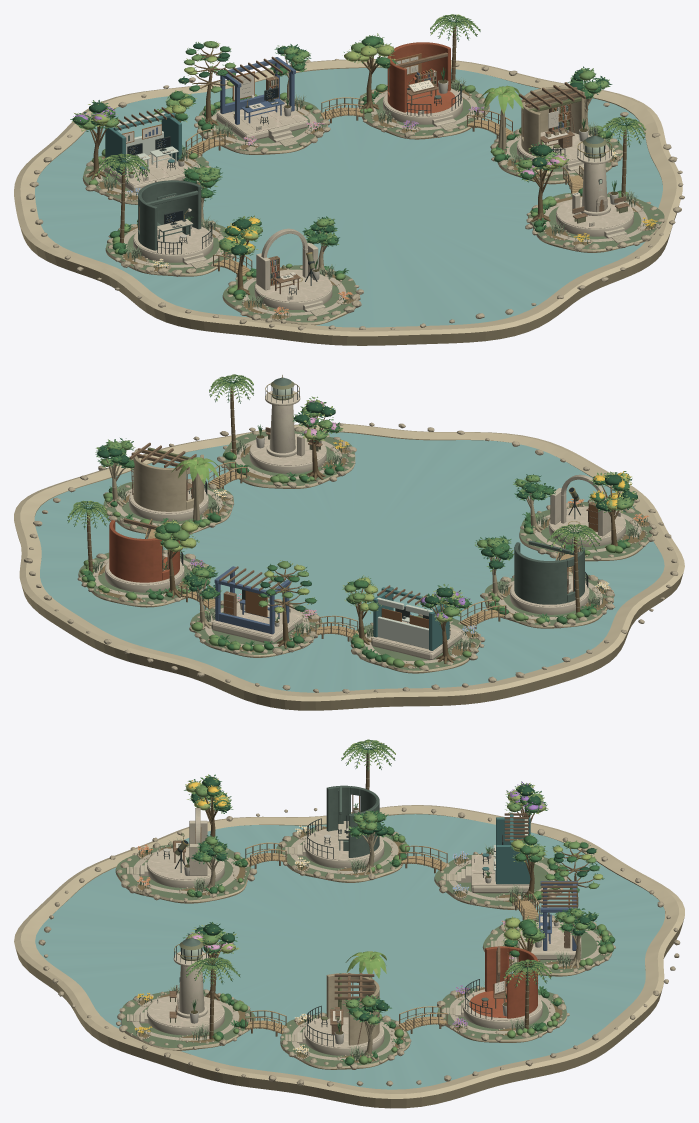
The model's file is archipelago-v8.glb.
The picture shows the model from 3 angles, top to bottom: view 1: azimuth 30°, elevation 25°; view 2: azimuth 150°, elevation 25°; view 3: azimuth 270°, elevation 25°; orthographic projection.
Parts seen in each view (by area): view 1: lake_water, lake_irregular_sand_bank, pavilion_gerar, pavilion_especificar, pavilion_validar, pavilion_comparar, pavilion_evoluir, pavilion_perspectivas, pavilion_pesquisa, island_perspectivas_foundation, island_pesquisa_foundation, lake_shore_pebbles (+36 smaller); view 2: lake_water, lake_irregular_sand_bank, pavilion_evoluir, pavilion_gerar, pavilion_comparar, pavilion_validar, pavilion_perspectivas, pavilion_especificar, pavilion_pesquisa, lake_shore_pebbles, island_perspectivas_foundation, island_pesquisa_foundation (+35 smaller); view 3: lake_water, lake_irregular_sand_bank, pavilion_especificar, pavilion_evoluir, pavilion_gerar, pavilion_perspectivas, pavilion_comparar, pavilion_pesquisa, pavilion_validar, island_pesquisa_foundation, island_perspectivas_foundation, lake_shore_pebbles (+35 smaller).
Boxes of the visible parts, x1=… form: lake_water: x1=35, y1=67, x2=662, y2=327; lake_irregular_sand_bank: x1=14, y1=59, x2=682, y2=345; pavilion_gerar: x1=133, y1=180, x2=213, y2=264; pavilion_especificar: x1=383, y1=42, x2=462, y2=126; pavilion_validar: x1=216, y1=56, x2=308, y2=142; pavilion_comparar: x1=103, y1=107, x2=193, y2=192; pavilion_evoluir: x1=517, y1=82, x2=595, y2=171; pavilion_perspectivas: x1=556, y1=132, x2=633, y2=238; pavilion_pesquisa: x1=254, y1=228, x2=332, y2=311; island_perspectivas_foundation: x1=528, y1=193, x2=664, y2=252; island_pesquisa_foundation: x1=222, y1=265, x2=356, y2=325; lake_shore_pebbles: x1=26, y1=59, x2=684, y2=330; lake_water: x1=34, y1=432, x2=664, y2=692; lake_irregular_sand_bank: x1=14, y1=423, x2=684, y2=710; pavilion_evoluir: x1=129, y1=442, x2=208, y2=521; pavilion_gerar: x1=510, y1=540, x2=589, y2=614; pavilion_comparar: x1=371, y1=585, x2=462, y2=659; pavilion_validar: x1=211, y1=566, x2=302, y2=644; pavilion_perspectivas: x1=249, y1=375, x2=326, y2=473; pavilion_especificar: x1=105, y1=518, x2=184, y2=592; pavilion_pesquisa: x1=549, y1=474, x2=625, y2=546; lake_shore_pebbles: x1=24, y1=422, x2=678, y2=693; island_perspectivas_foundation: x1=222, y1=430, x2=355, y2=488; island_pesquisa_foundation: x1=519, y1=502, x2=652, y2=561; lake_water: x1=35, y1=814, x2=664, y2=1089; lake_irregular_sand_bank: x1=14, y1=805, x2=684, y2=1108; pavilion_especificar: x1=455, y1=946, x2=542, y2=1028; pavilion_evoluir: x1=297, y1=973, x2=384, y2=1055; pavilion_gerar: x1=297, y1=785, x2=384, y2=868; pavilion_perspectivas: x1=130, y1=935, x2=224, y2=1035; pavilion_comparar: x1=447, y1=812, x2=530, y2=893; pavilion_pesquisa: x1=130, y1=808, x2=224, y2=887; pavilion_validar: x1=497, y1=881, x2=581, y2=959; island_pesquisa_foundation: x1=115, y1=844, x2=251, y2=903; island_perspectivas_foundation: x1=121, y1=991, x2=256, y2=1050; lake_shore_pebbles: x1=38, y1=807, x2=680, y2=1086.
Size of the model in its own units: 43.95 by 7.04 by 42.37.
Materials: 50 (8 with a texture image).
